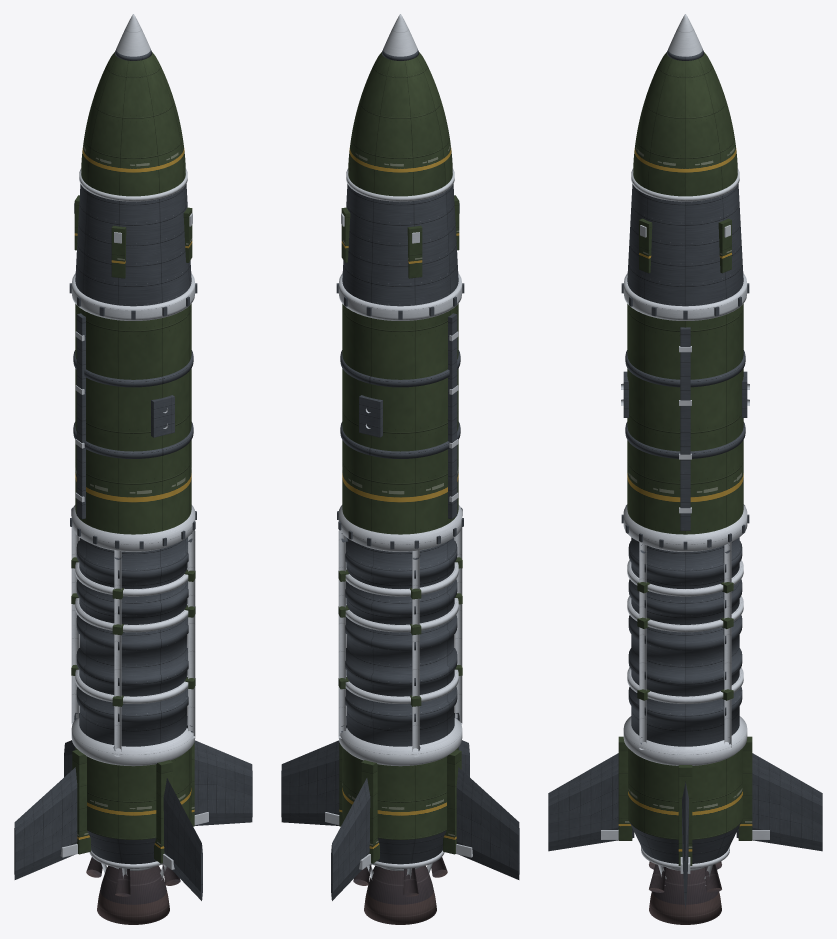
The model's file is light_icbm_missile_without_flame.glb.
The picture shows the model from 3 angles, left to right: view 1: azimuth 30°, elevation 25°; view 2: azimuth 150°, elevation 25°; view 3: azimuth 270°, elevation 25°; orthographic projection.
Visible parts, largest first — view 1: Light_ICBM_Missile; view 2: Light_ICBM_Missile; view 3: Light_ICBM_Missile.
Boxes of the visible parts, <box> form: Light_ICBM_Missile: <box>14,14,252,924</box>; Light_ICBM_Missile: <box>281,14,519,924</box>; Light_ICBM_Missile: <box>548,14,822,924</box>.
Bounding box in the file's own units: 1.11 × 4 × 1.11.
4 materials, 4 textured.
